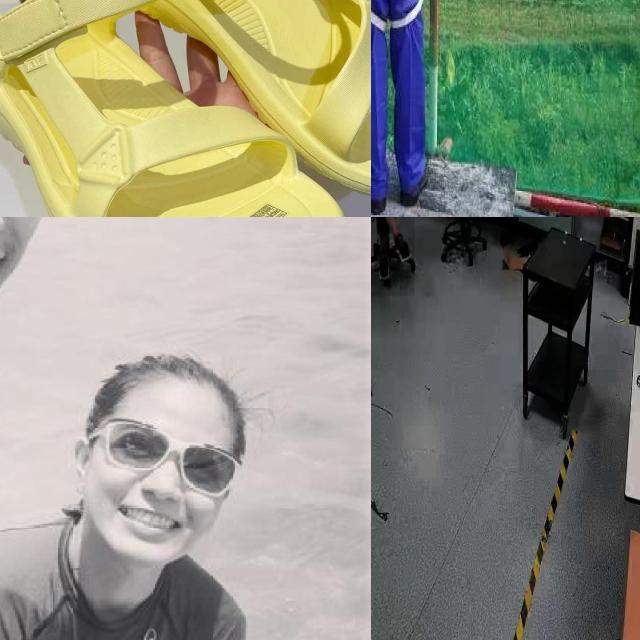Sandals: (0, 0, 371, 217)
glasses: (88, 420, 248, 500)
head_nohelmet: (82, 338, 265, 462)
person: (0, 333, 273, 640), (371, 217, 414, 297)
shoes: (391, 226, 411, 266), (375, 245, 394, 287)
